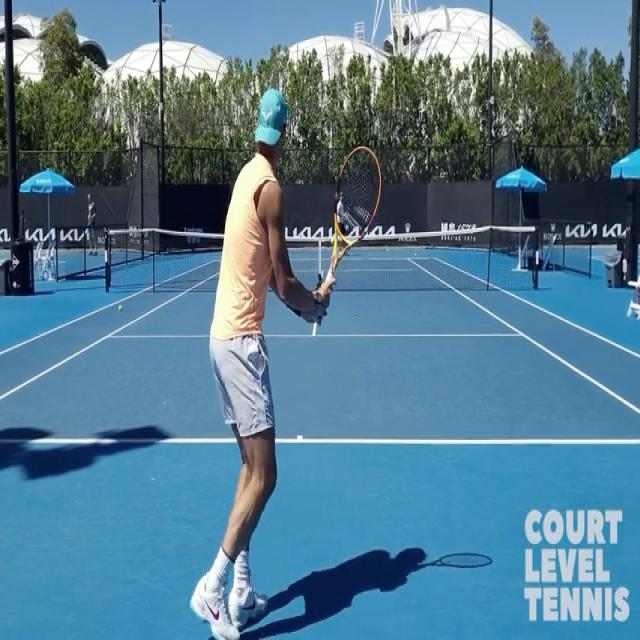backhand-ready: (208, 91, 379, 640)
